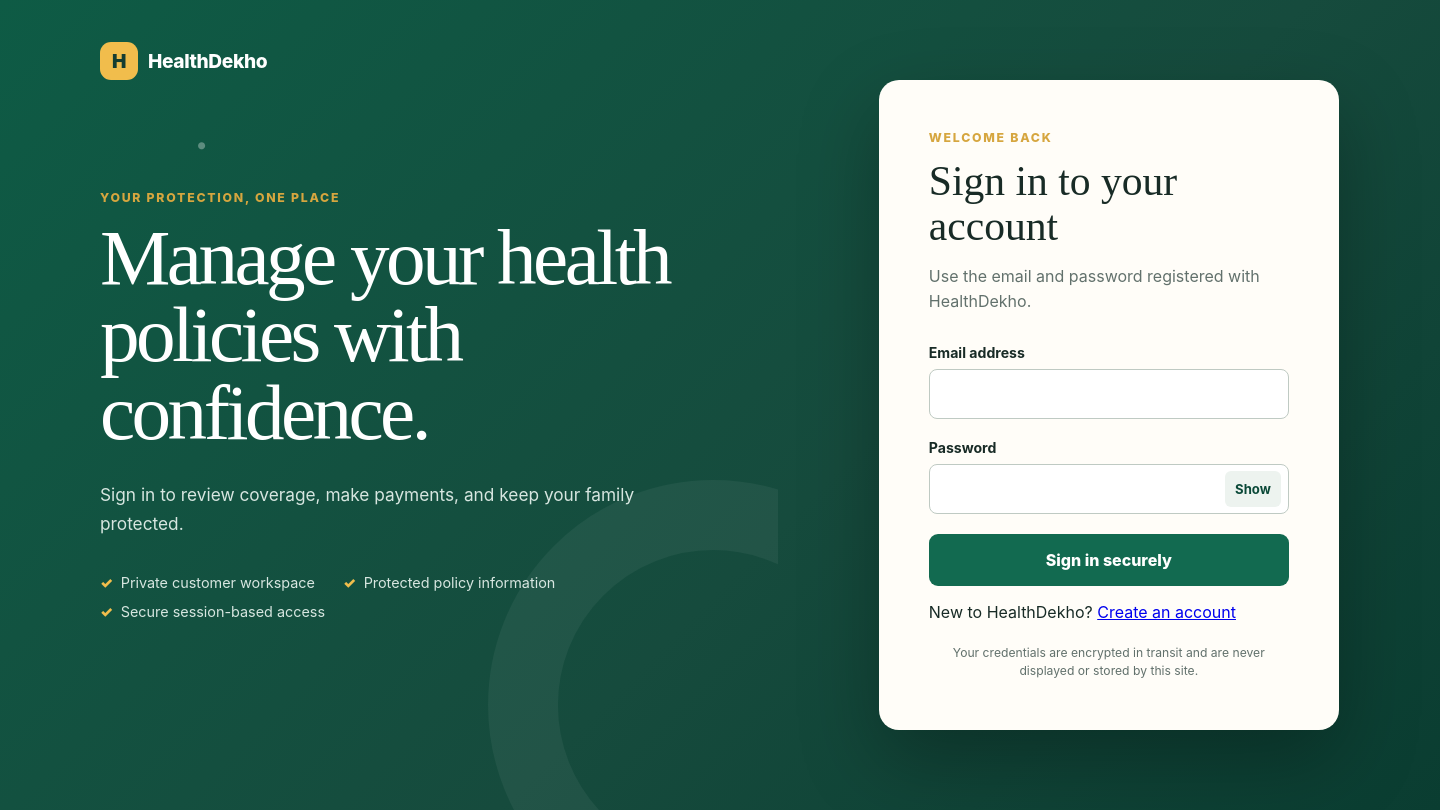
Test case: sign in › validates required fields and supports password visibility
Expected: the heading "Sign in to your account" is shown, top-left (929, 158), bottom-right (1177, 250)
Type "secret" into the password field labelled "Password" at (1109,489), box top-left (929, 464), bottom-right (1289, 514)
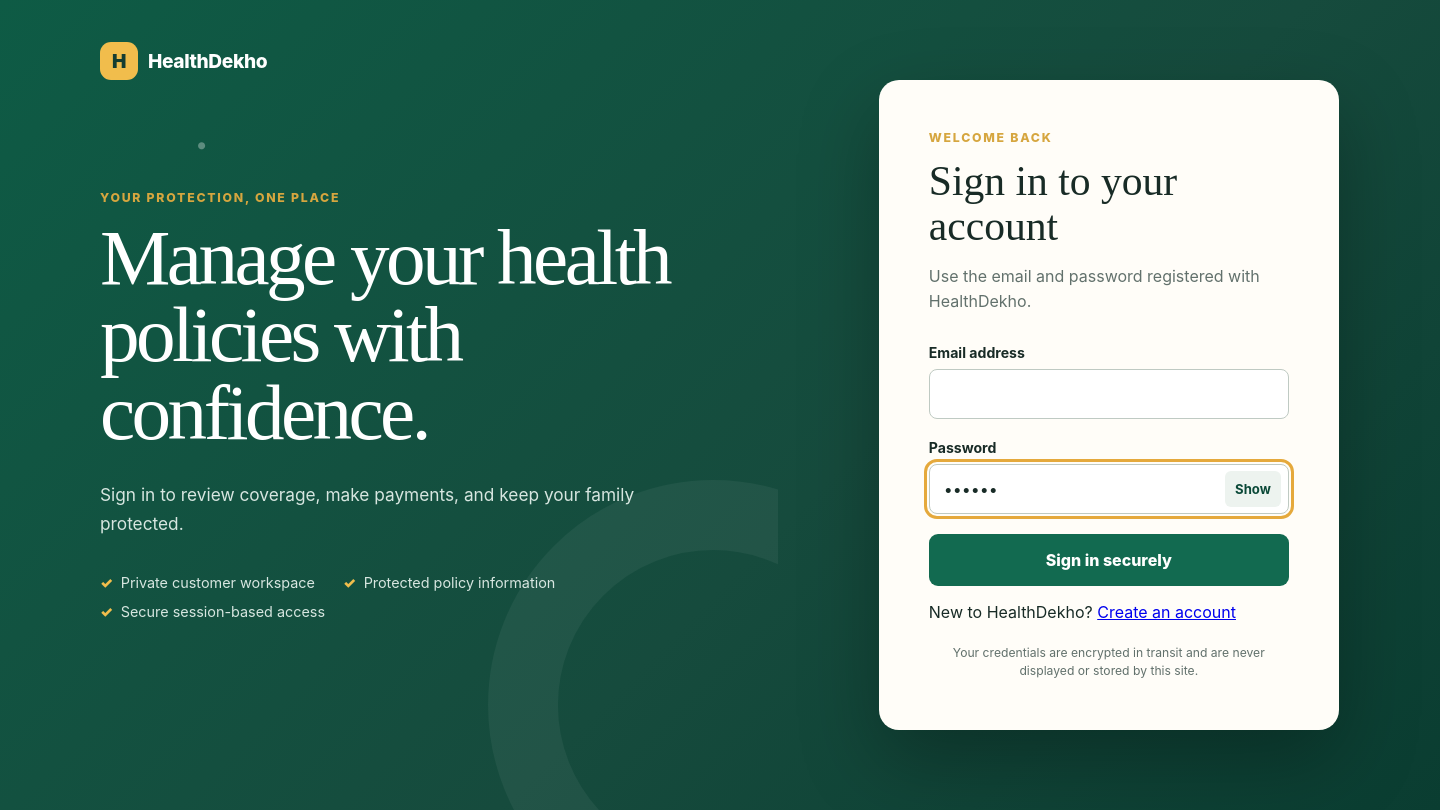
Click the button with aria-label "Show password" at (1253,489), box top-left (1225, 471), bottom-right (1281, 507)
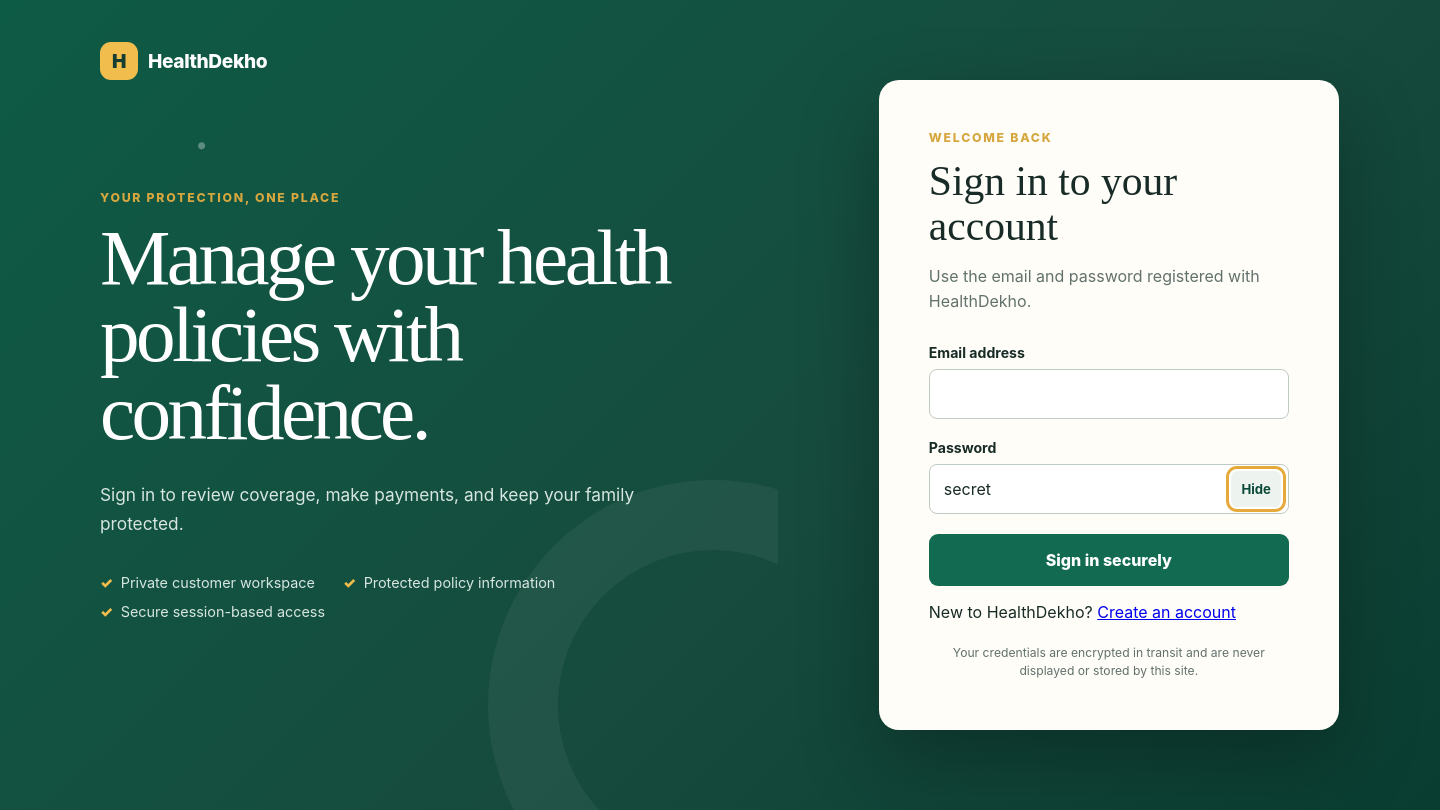
Expected: the field labelled "Password" shows its text, top-left (929, 464), bottom-right (1289, 514)
Click the button "Sign in securely" at (1109,560), box top-left (929, 534), bottom-right (1289, 586)
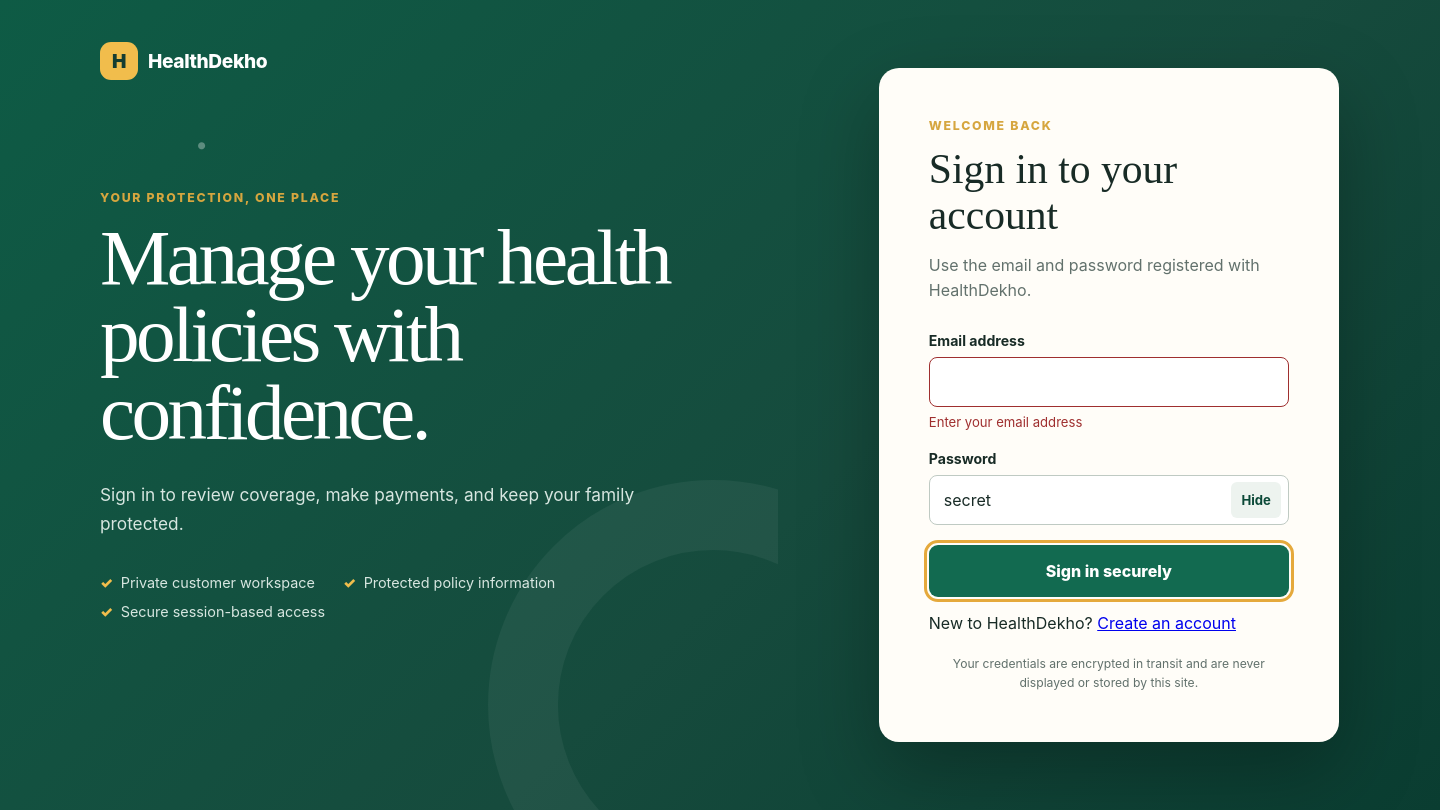
Expected: the text "Enter your email address" is shown, top-left (929, 414), bottom-right (1082, 430)
